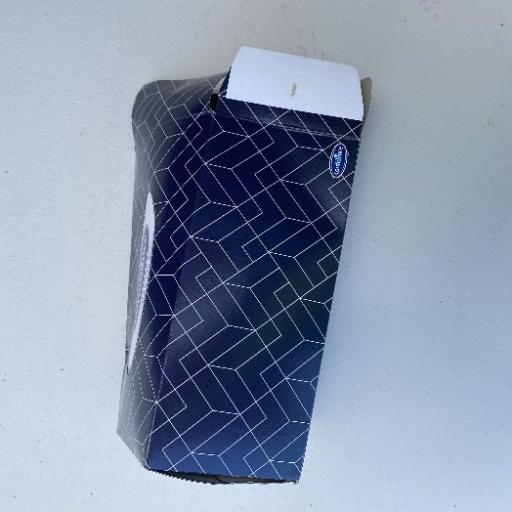Cardboard: (114, 46, 370, 486)
